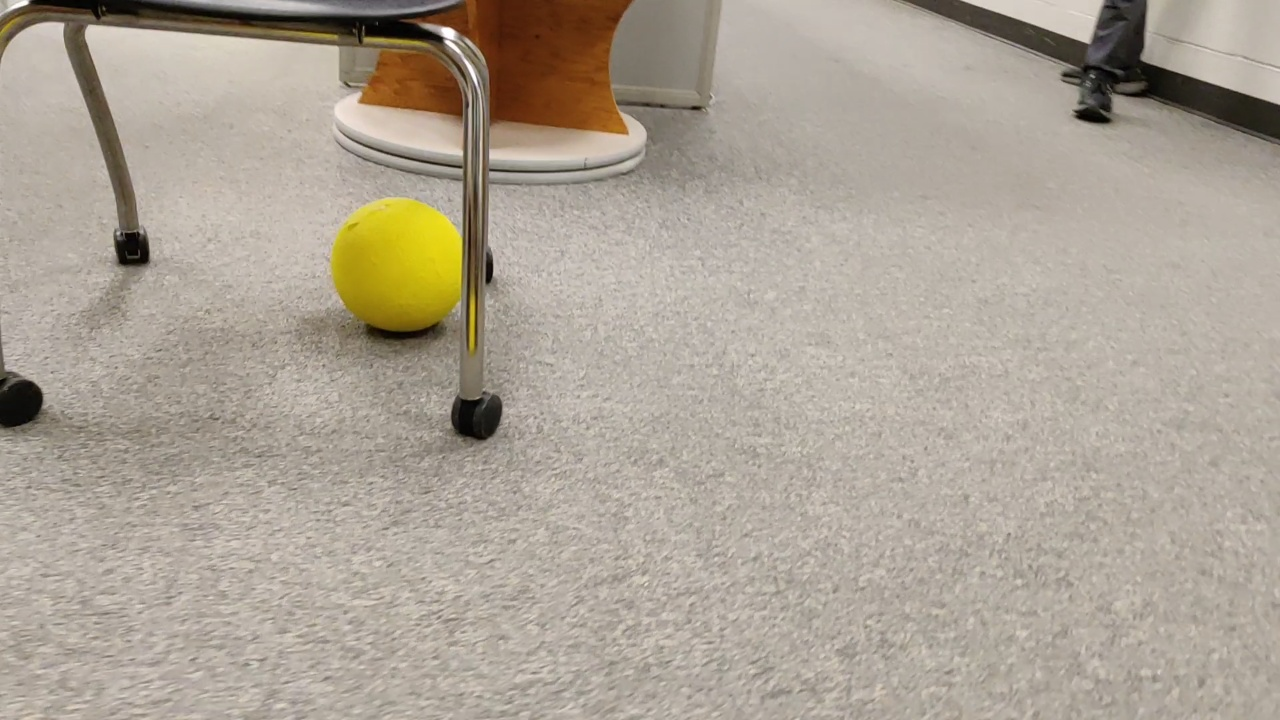Ball: (330, 197, 466, 346)
